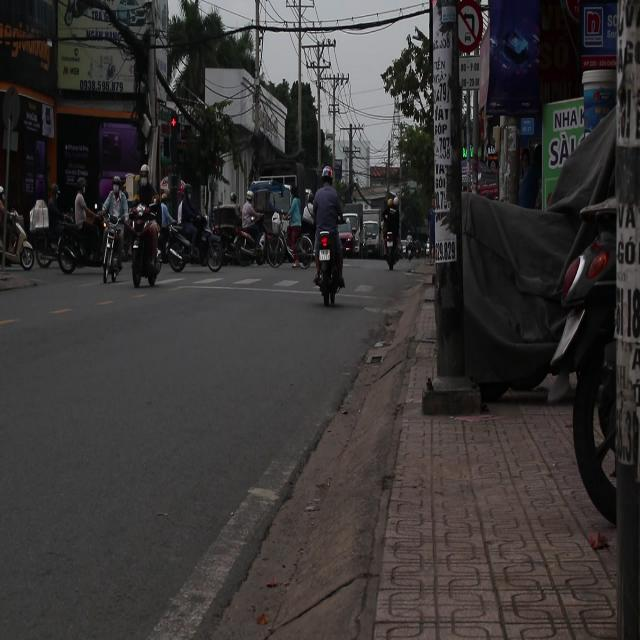car: (337, 217, 358, 252)
motorbike: (170, 215, 222, 273), (130, 213, 168, 288), (58, 212, 104, 273), (314, 221, 344, 311), (0, 207, 35, 270), (224, 223, 267, 267), (103, 216, 125, 291)
